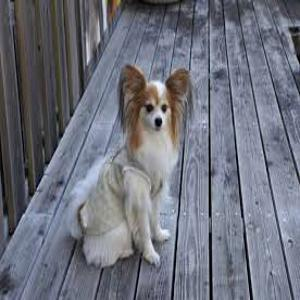yell: (65, 64, 190, 267)
